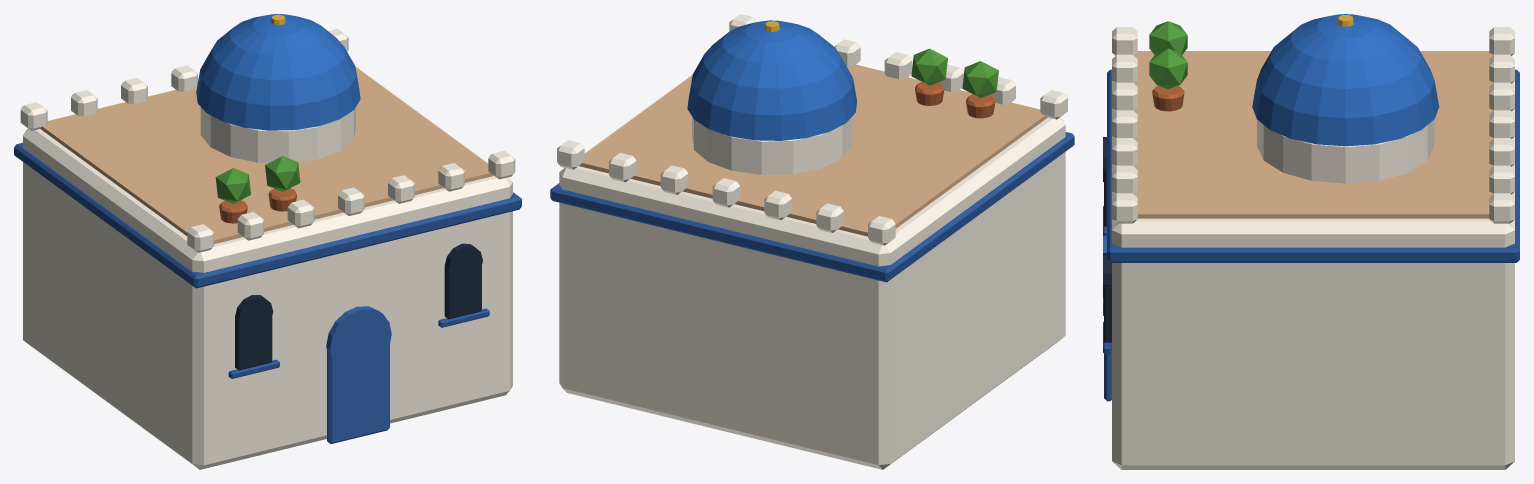
The model's file is house_south_0.glb.
The picture shows the model from 3 angles, left to right: view 1: azimuth 30°, elevation 25°; view 2: azimuth 150°, elevation 25°; view 3: azimuth 270°, elevation 25°; orthographic projection. The views are drawn at different scales.
Visible parts, largest first — view 1: body, deck, Sphere, band, drum, door, Cylinder, win_0.85, win_-0.85, Cylinder.002, Cylinder.001, Icosphere (+13 smaller); view 2: body, deck, Sphere, band, drum, Icosphere.001, Icosphere, cren_4_1.17, cren_3_1.17, cren_5_1.17, cren_0_1.17, cren_6_1.17 (+6 smaller); view 3: body, deck, Sphere, band, drum, Icosphere.001, Icosphere, cren_6_-1.17, cren_6_1.17, cren_2_-1.17, cren_2_1.17, cren_5_1.17 (+11 smaller).
Boxes of the visible parts, <box> form: body: <box>23,66,512,469</box>; deck: <box>40,67,493,243</box>; Sphere: <box>196,14,360,130</box>; band: <box>14,142,521,288</box>; drum: <box>200,107,355,162</box>; door: <box>327,345,389,443</box>; Cylinder: <box>326,306,391,374</box>; win_0.85: <box>444,266,481,319</box>; win_-0.85: <box>235,317,272,370</box>; Cylinder.002: <box>444,243,482,282</box>; Cylinder.001: <box>235,295,273,333</box>; Icosphere: <box>215,168,250,203</box>; body: <box>559,74,1065,469</box>; deck: <box>579,64,1047,236</box>; Sphere: <box>687,20,856,140</box>; band: <box>550,132,1074,282</box>; drum: <box>692,116,852,174</box>; Icosphere.001: <box>911,48,947,85</box>; Icosphere: <box>962,61,998,98</box>; cren_4_1.17: <box>660,165,688,194</box>; cren_3_1.17: <box>712,178,740,207</box>; cren_5_1.17: <box>609,152,636,182</box>; cren_0_1.17: <box>868,216,895,245</box>; cren_6_1.17: <box>557,140,584,169</box>; body: <box>1112,81,1514,469</box>; deck: <box>1133,51,1493,218</box>; Sphere: <box>1252,14,1439,146</box>; band: <box>1107,69,1519,262</box>; drum: <box>1257,119,1434,183</box>; Icosphere.001: <box>1149,48,1187,89</box>; Icosphere: <box>1149,21,1187,54</box>; cren_6_-1.17: <box>1112,193,1137,223</box>; cren_6_1.17: <box>1489,193,1514,223</box>; cren_2_-1.17: <box>1112,82,1137,111</box>; cren_2_1.17: <box>1489,82,1514,111</box>; cren_5_1.17: <box>1489,165,1514,194</box>.
Bounding box in the file's own units: 2.66 × 2.61 × 2.58.
